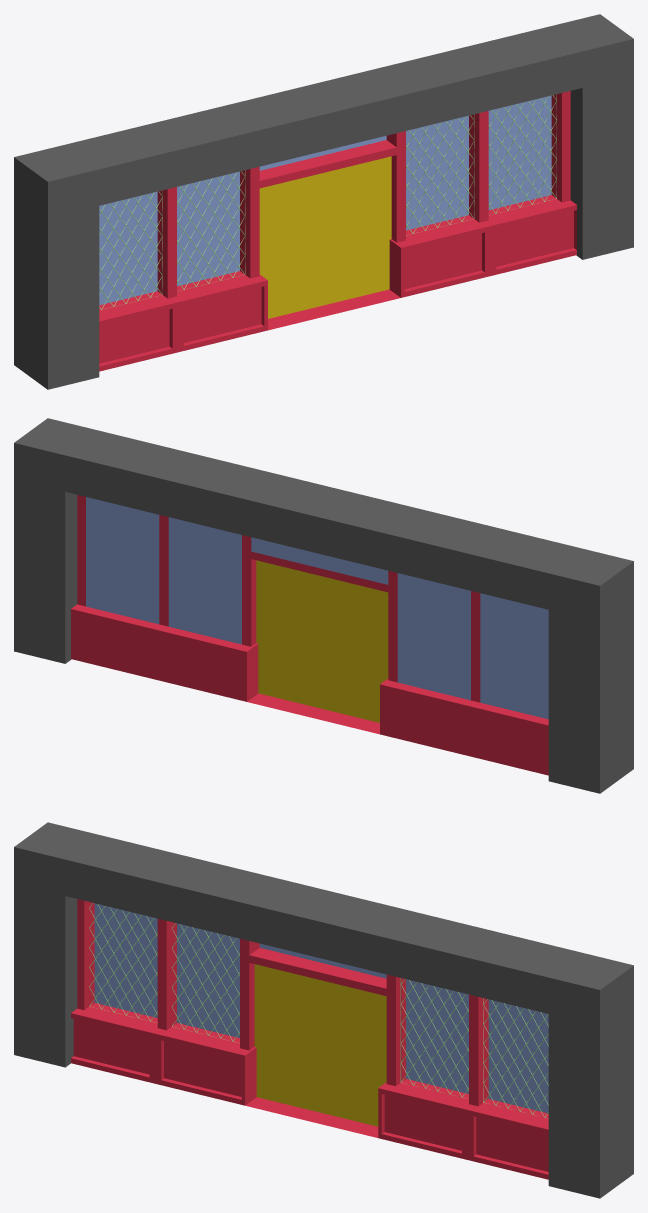
File: side_shop1.fbx
The picture shows the model from 3 angles, top to bottom: view 1: azimuth 30°, elevation 25°; view 2: azimuth 150°, elevation 25°; view 3: azimuth 330°, elevation 25°; orthographic projection.
Parts seen in each view (by area): view 1: shop1; view 2: shop1; view 3: shop1.
Boxes of the visible parts, x1,y1,x2,y2 form: shop1: (14,14,633,389); shop1: (14,418,633,793); shop1: (14,822,633,1198).
Size of the model in its own units: 1000 by 340 by 100.
